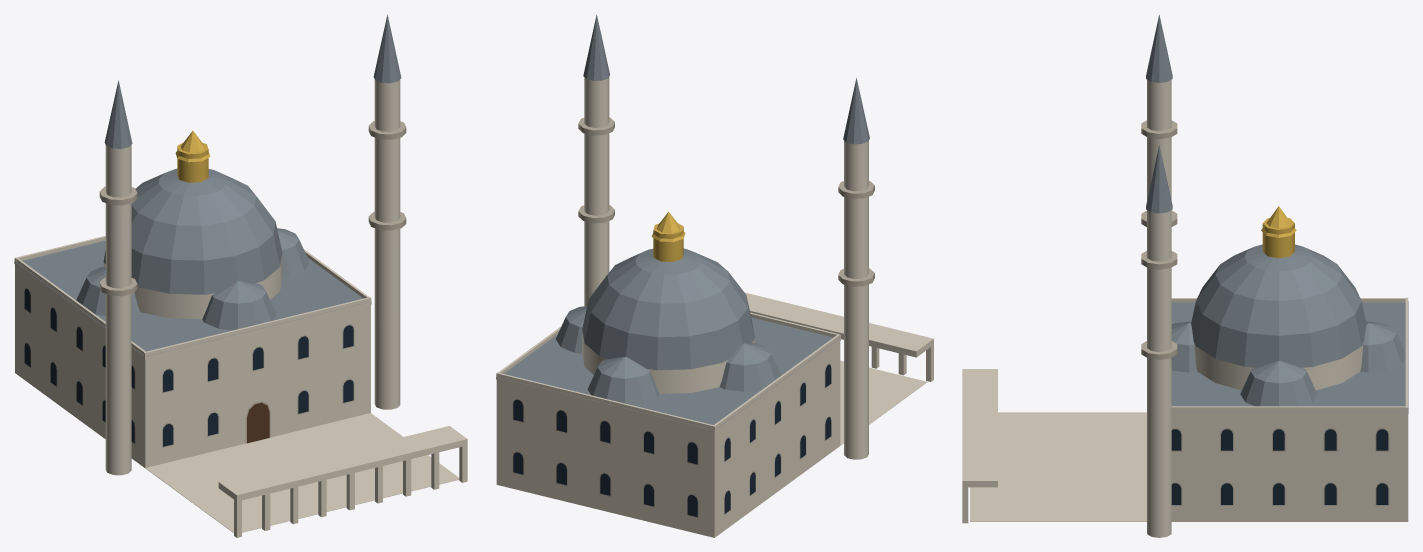
File: mosquee.glb
The picture shows the model from 3 angles, left to right: view 1: azimuth 30°, elevation 25°; view 2: azimuth 150°, elevation 25°; view 3: azimuth 270°, elevation 25°; orthographic projection. The views are drawn at different scales.
Parts seen in each view (by area): view 1: mosquee; view 2: mosquee; view 3: mosquee.
Boxes of the visible parts, bbox=[...] form: mosquee: bbox=[14, 14, 467, 537]; mosquee: bbox=[496, 14, 933, 537]; mosquee: bbox=[962, 15, 1408, 537].
Size of the model in its own units: 34.8 by 43 by 44.85.
Materials: 1 (1 with a texture image).
